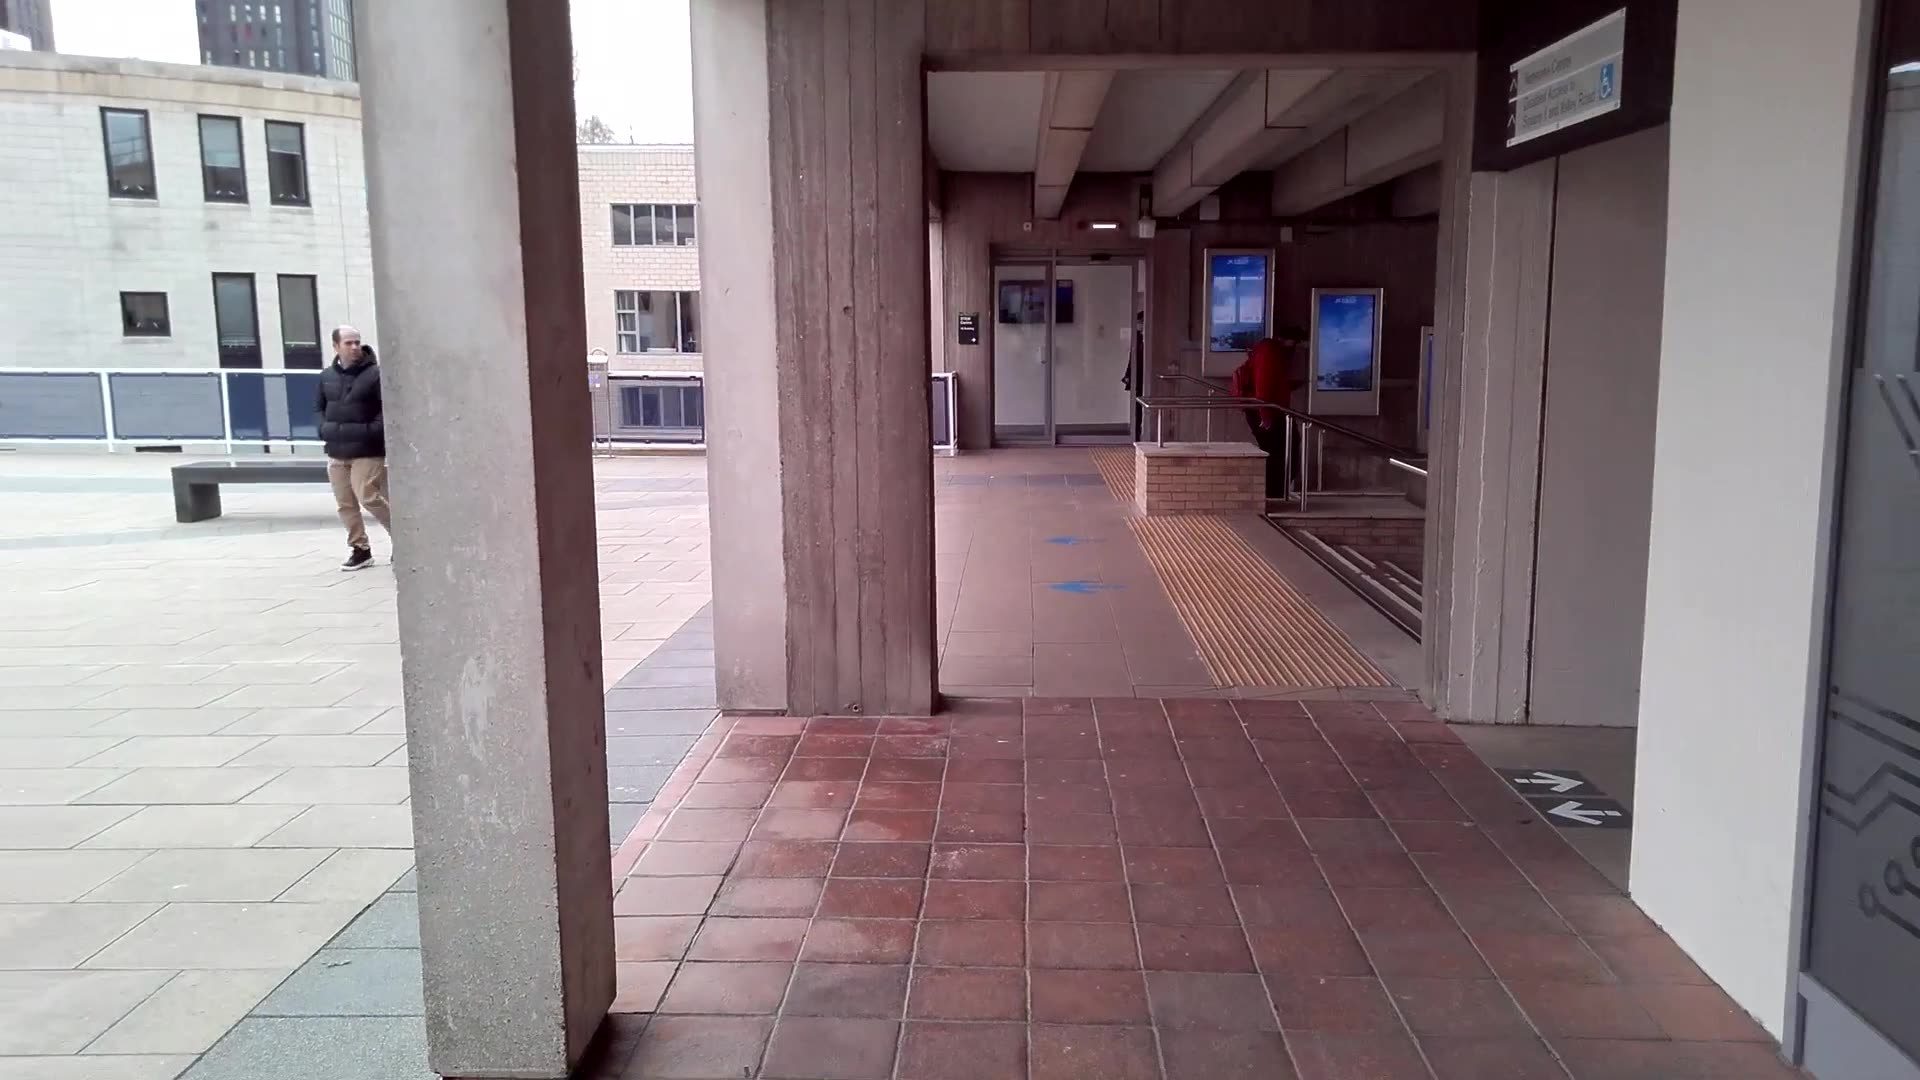Person: (320, 321, 400, 577)
